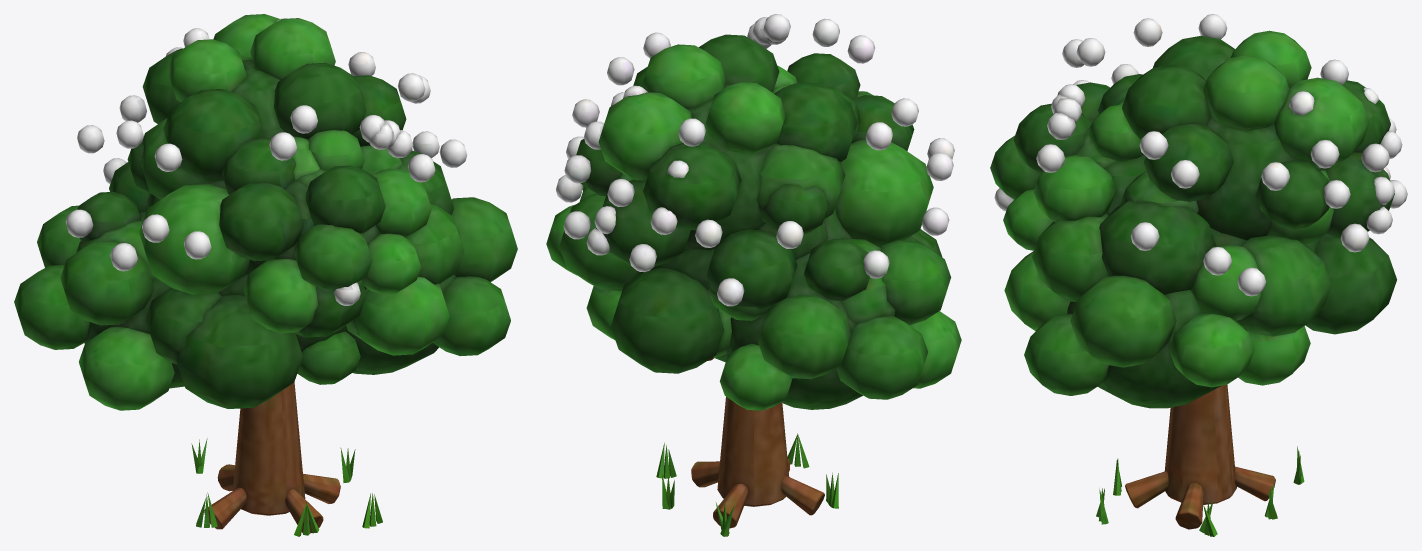
The model's file is hawthorn_tree.glb.
3 renders of one model, left to right at view 1: azimuth 30°, elevation 25°; view 2: azimuth 150°, elevation 25°; view 3: azimuth 270°, elevation 25°, orthographic.
Parts seen in each view (by area): view 1: crown, hawthorn_tree; view 2: crown, hawthorn_tree; view 3: crown, hawthorn_tree.
Boxes of the visible parts, x1,y1,x2,y2 form: crown: (14,14,517,410); hawthorn_tree: (191,382,382,536); crown: (546,14,961,410); hawthorn_tree: (656,357,838,536); crown: (990,14,1407,408); hawthorn_tree: (1096,385,1304,536).
Size of the model in its own units: 1.17 by 1.24 by 1.01.
Materials: 1 (1 with a texture image).
